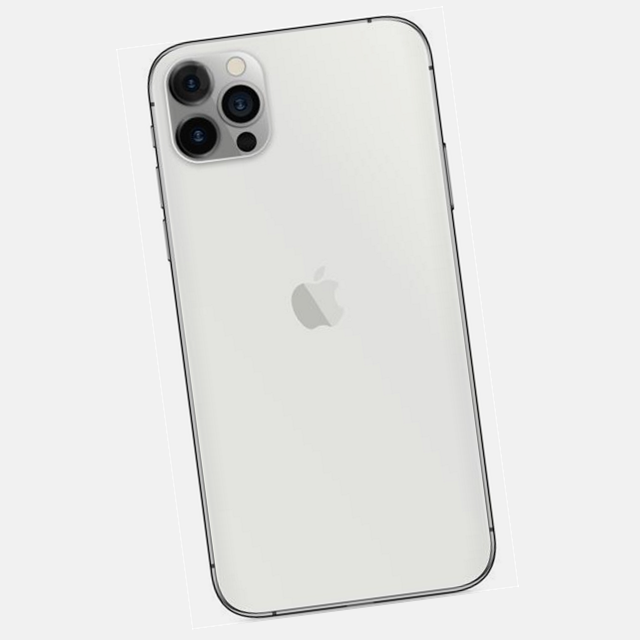iphone_12pro_silver: (139, 9, 516, 615), (159, 53, 277, 165)
